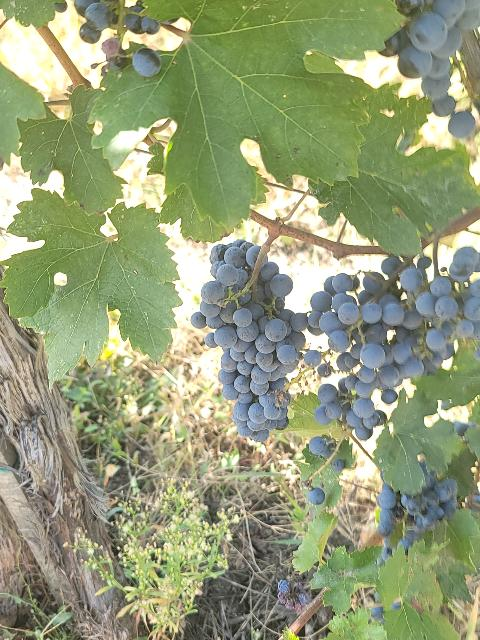grapes: (309, 256, 444, 440), (191, 240, 308, 441), (400, 246, 480, 359)
